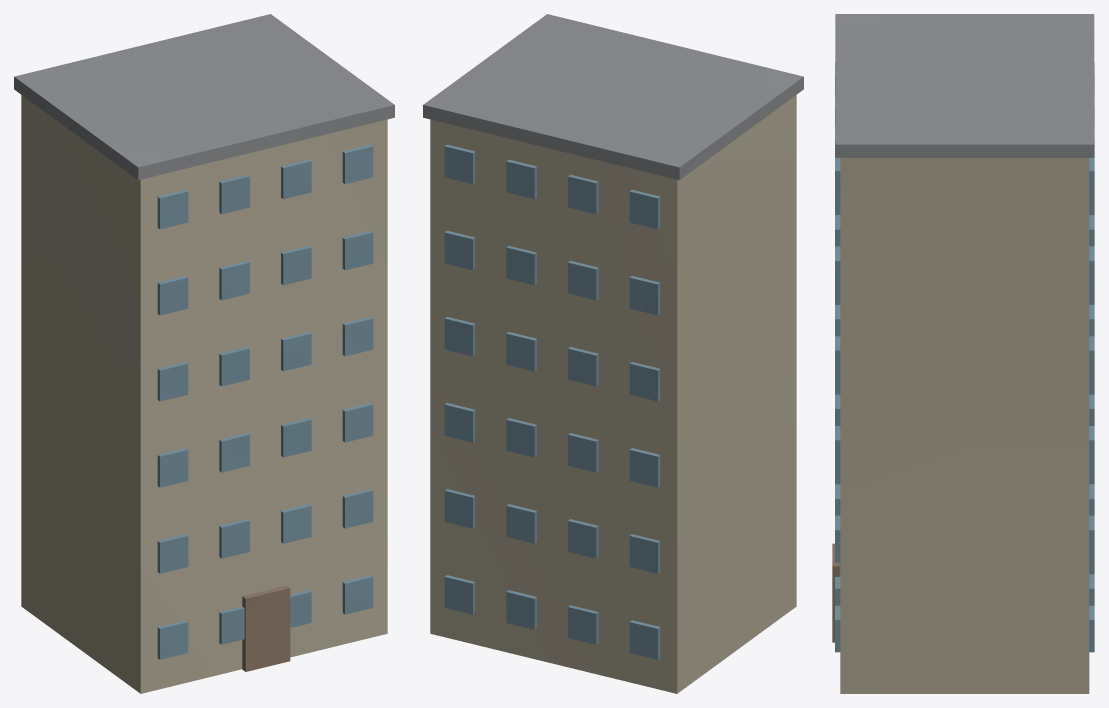
Rendered from apartment-04.glb.
3 views of the same model, side by side, from view 1: azimuth 30°, elevation 25°; view 2: azimuth 150°, elevation 25°; view 3: azimuth 270°, elevation 25° (orthographic). The views are drawn at different scales.
Parts seen in each view (by area): view 1: world; view 2: world; view 3: world.
Part boxes in pixels (left/top/right/bottom): world: left=14, top=14, right=394, bottom=693; world: left=423, top=14, right=803, bottom=693; world: left=832, top=14, right=1094, bottom=693.
Size of the model in its own units: 1.47 by 2.89 by 1.25.
